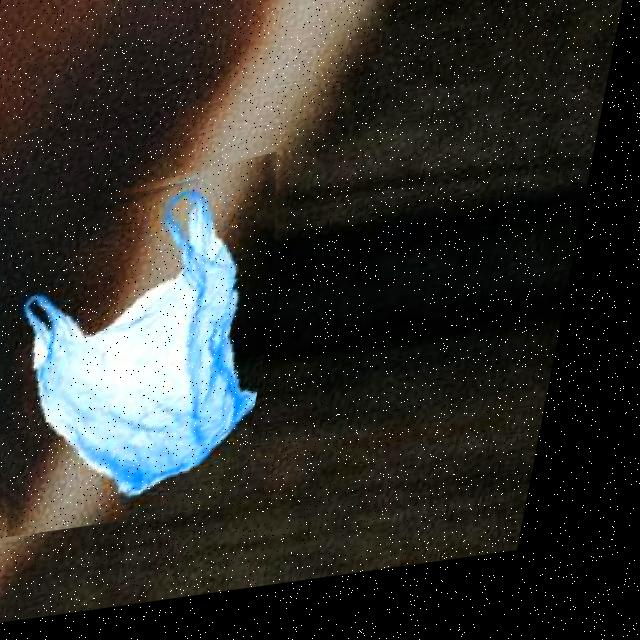plasticcover: (0, 165, 310, 546)
